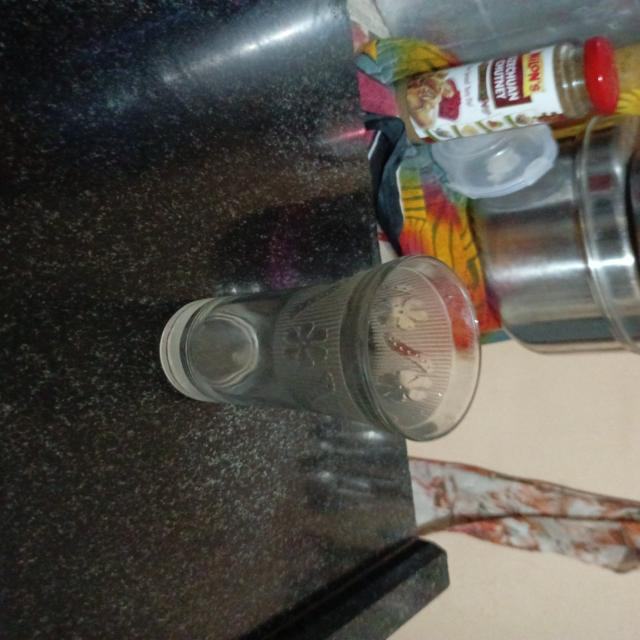Glass: (155, 250, 490, 444)
